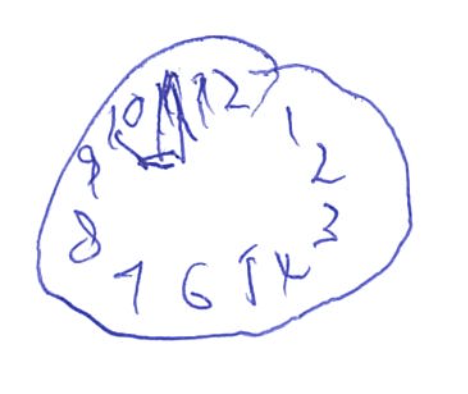1: (284, 105, 298, 146)
10: (107, 92, 145, 149)
11: (158, 81, 199, 143)
12: (190, 68, 249, 129)
2: (311, 139, 347, 187)
3: (313, 199, 340, 249)
4: (272, 246, 311, 298)
5: (235, 241, 261, 307)
6: (179, 258, 213, 313)
7: (109, 260, 144, 316)
8: (68, 204, 101, 265)
9: (77, 143, 103, 202)
contour: (30, 31, 415, 343)
